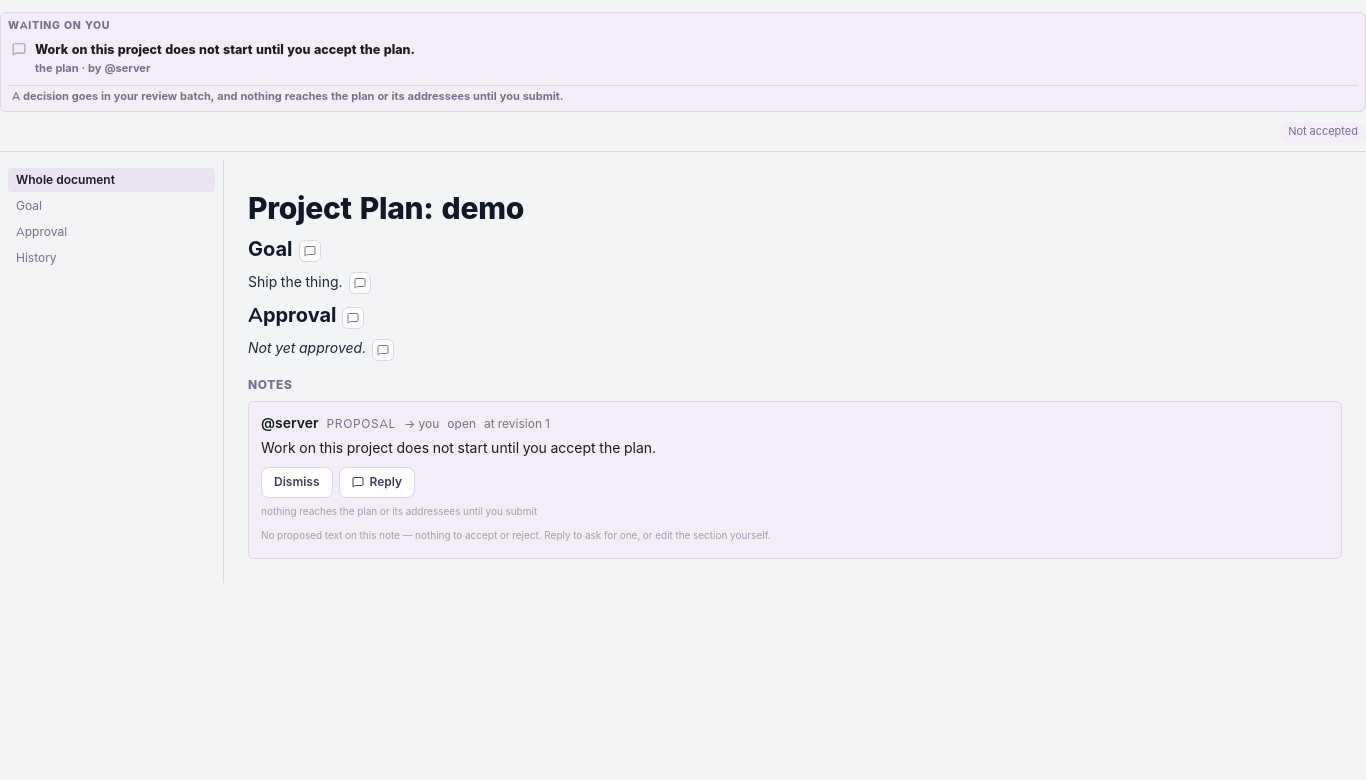
Test: AC-2.23 — approving is dismissing the confirm note, and there is no second door › dismissing the confirm note and submitting is what accepts the plan
Check: the element with test id "plan-acceptance" is shown, box [0,122,1365,152]
Check: the text with test id "plan-accepted" reads "Not accepted", box [1288,124,1358,139]
Click the button "Dismiss" at (297,482), box [261,467,332,498]
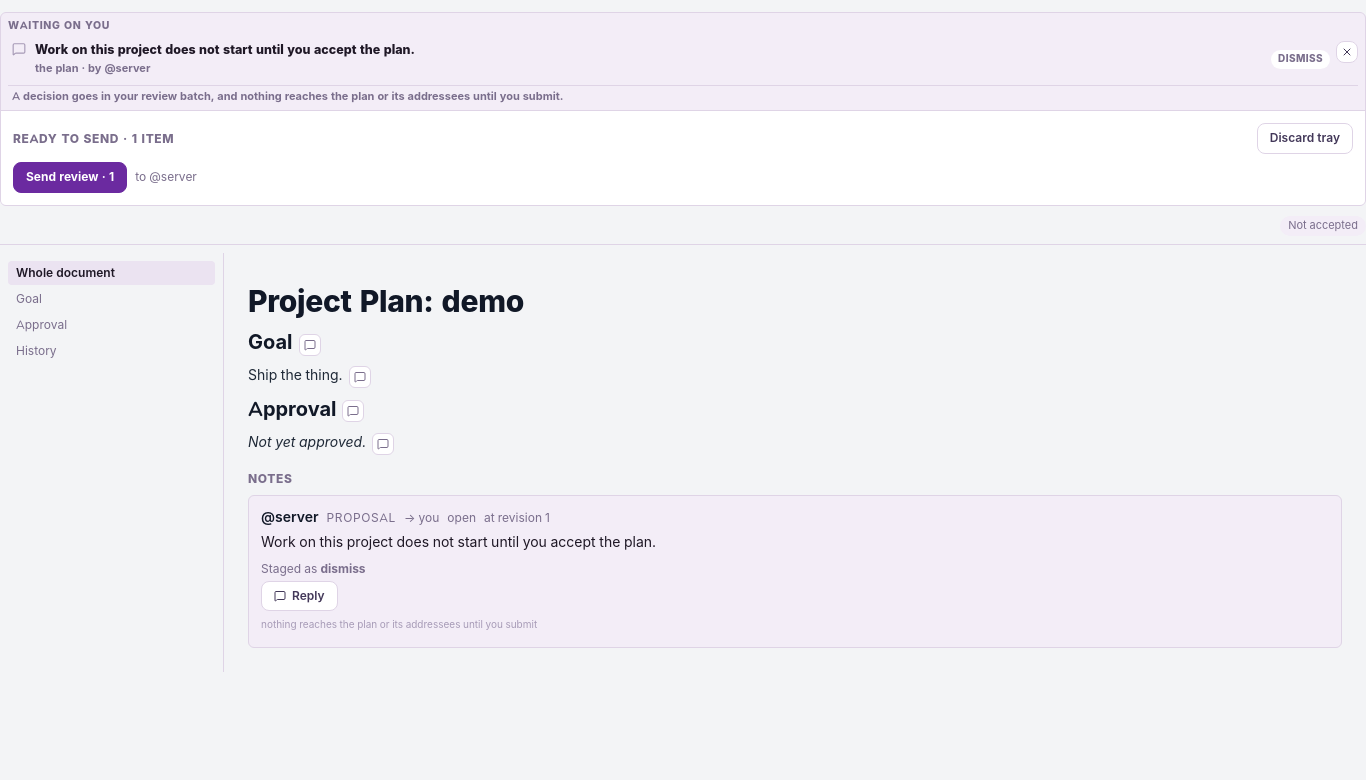
Click the button "Send review · 1" at (70,177), box [13,162,127,193]
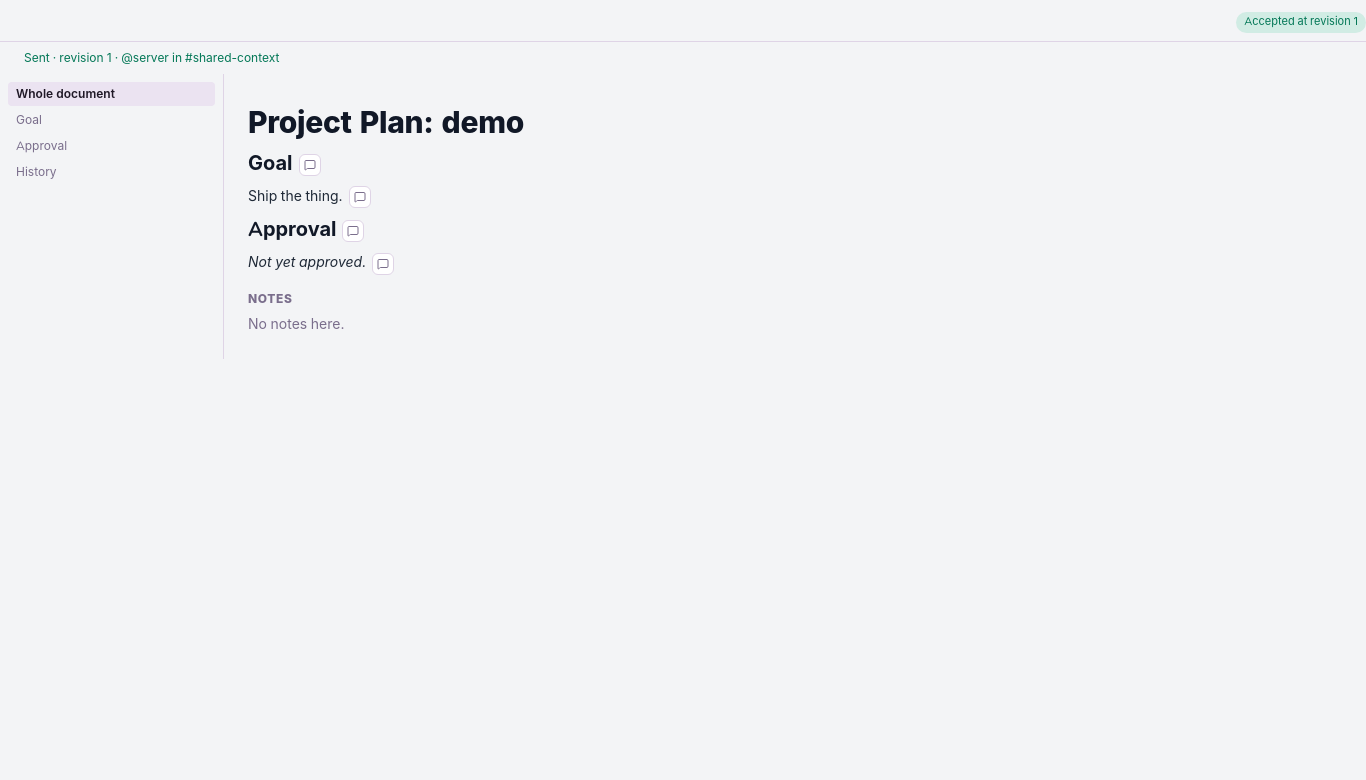
Check: the text with test id "plan-accepted" reads "Accepted at revision 1", box [1244,14,1358,29]
